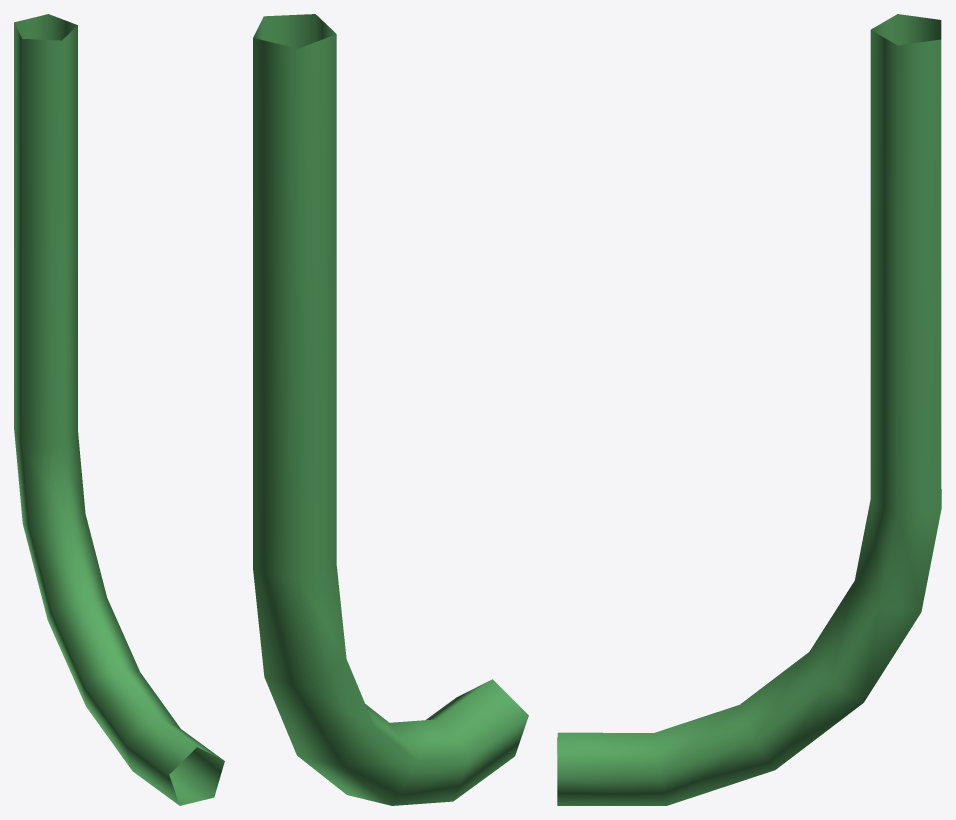
The model's file is SPipeE_1.fbx.
The picture shows the model from 3 angles, left to right: view 1: azimuth 30°, elevation 25°; view 2: azimuth 150°, elevation 25°; view 3: azimuth 270°, elevation 25°; orthographic projection. The views are drawn at different scales.
Parts seen in each view (by area): view 1: SPipeE_1; view 2: SPipeE_1; view 3: SPipeE_1.
Part boxes in pixels (x1,y1,x2,y2): SPipeE_1: (14, 14, 224, 805); SPipeE_1: (253, 14, 528, 805); SPipeE_1: (557, 14, 941, 805).
Size of the model in its own units: 10.35 by 118 by 53.38.
